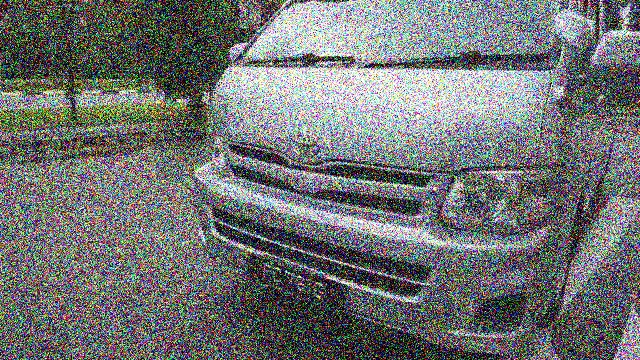van: (185, 0, 640, 352)
